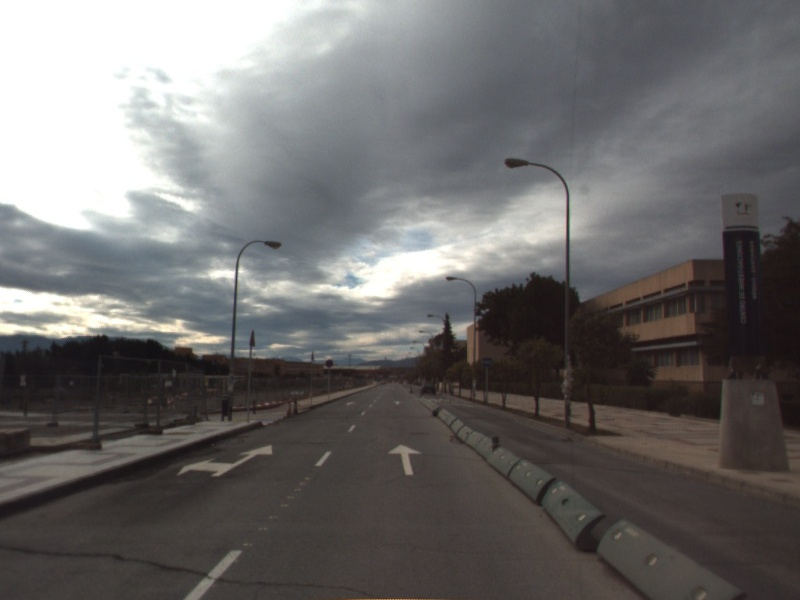STRAIGHT: (386, 442, 424, 477)
STRAIGHT_LEFT: (175, 443, 274, 479)
